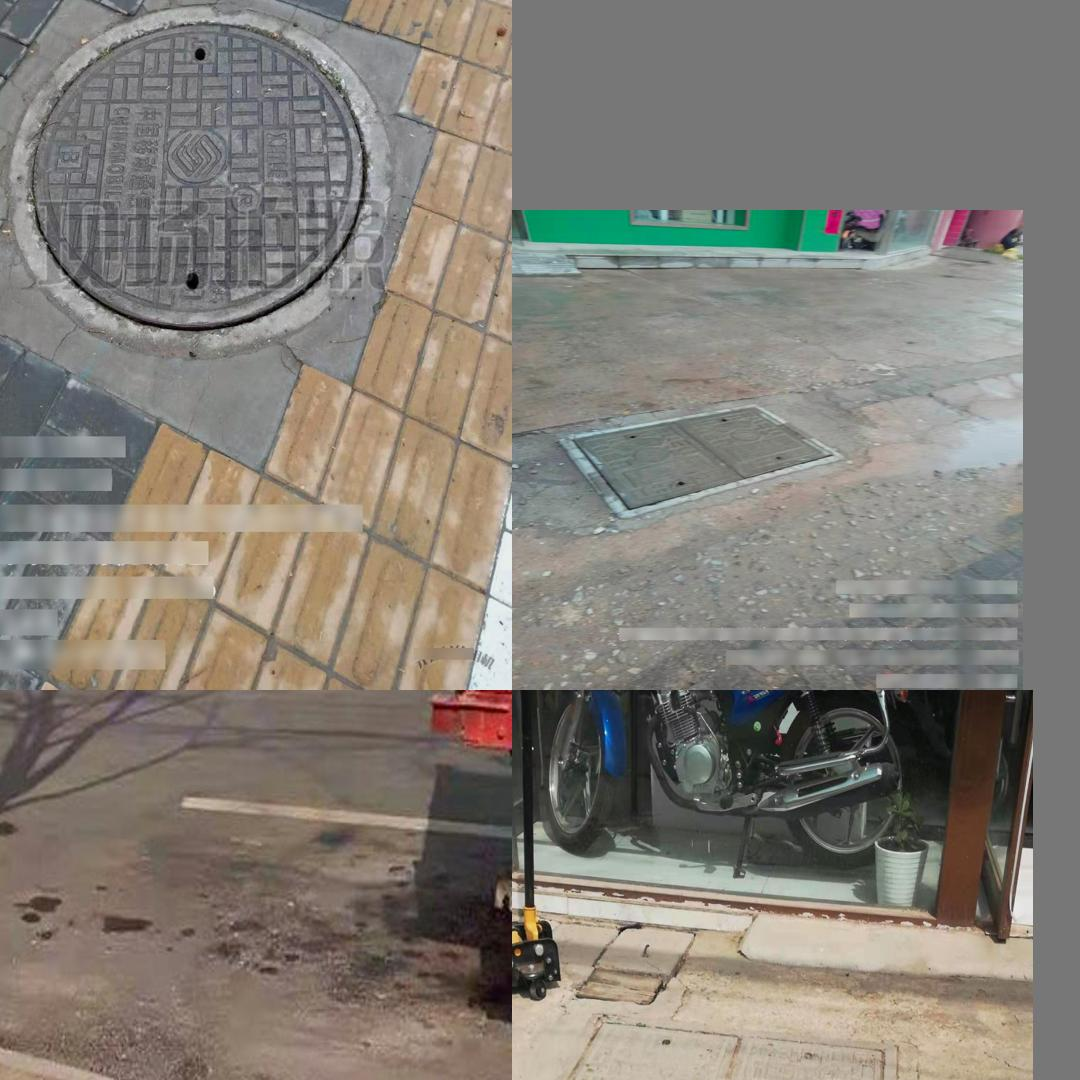good: (6, 4, 393, 359), (557, 404, 846, 518), (529, 1032, 904, 1080)
